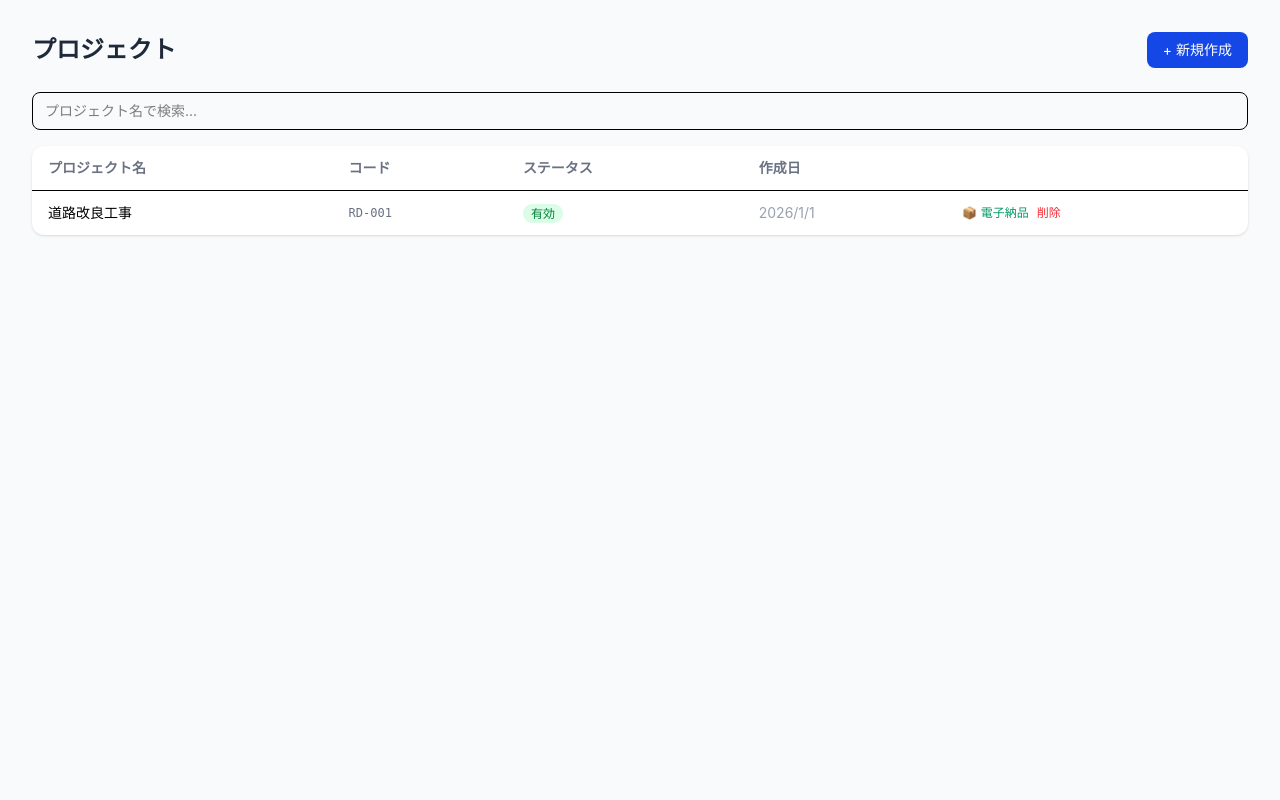
Projects › clicking "📦 電子納品" opens ElectronicDeliveryModal with project info
Click the button "📦 電子納品": (996, 213) [962,205,1029,221]
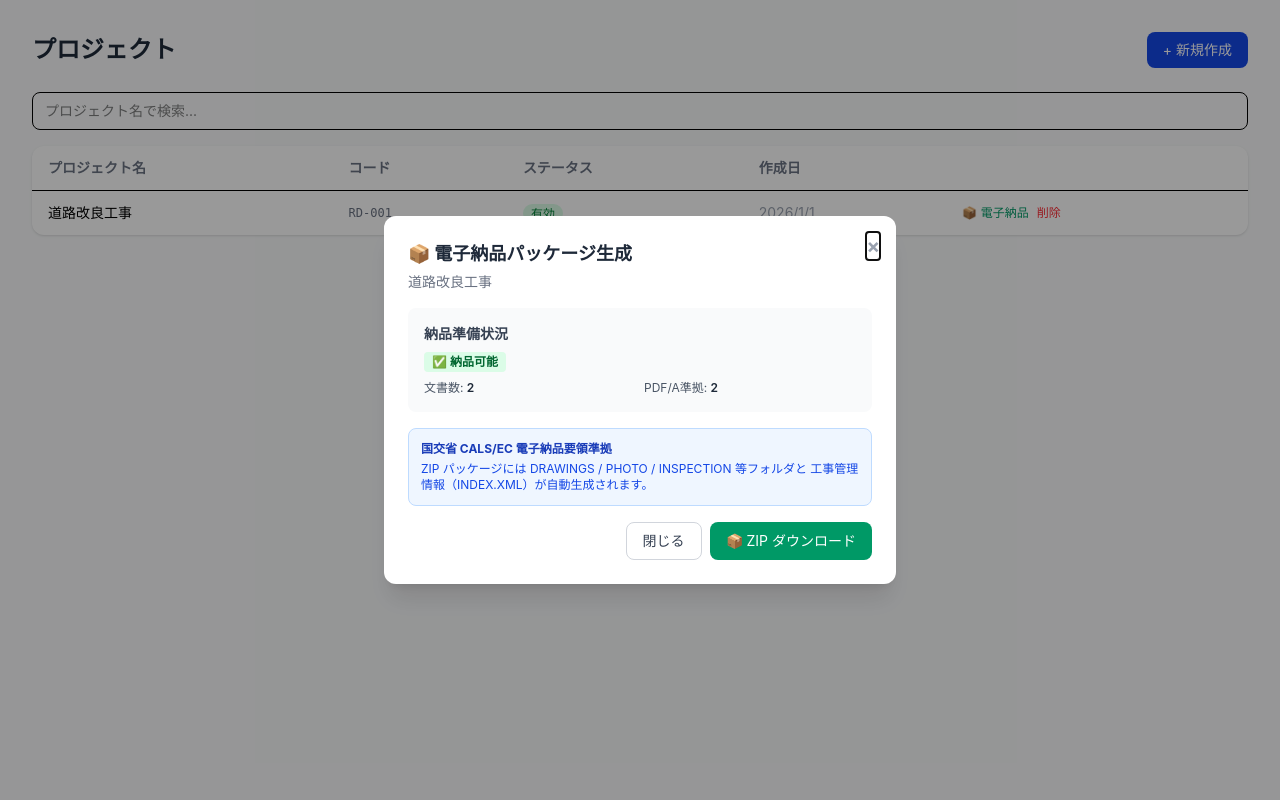
Expected: the heading "📦 電子納品パッケージ生成" is shown, [408,243,632,264]
